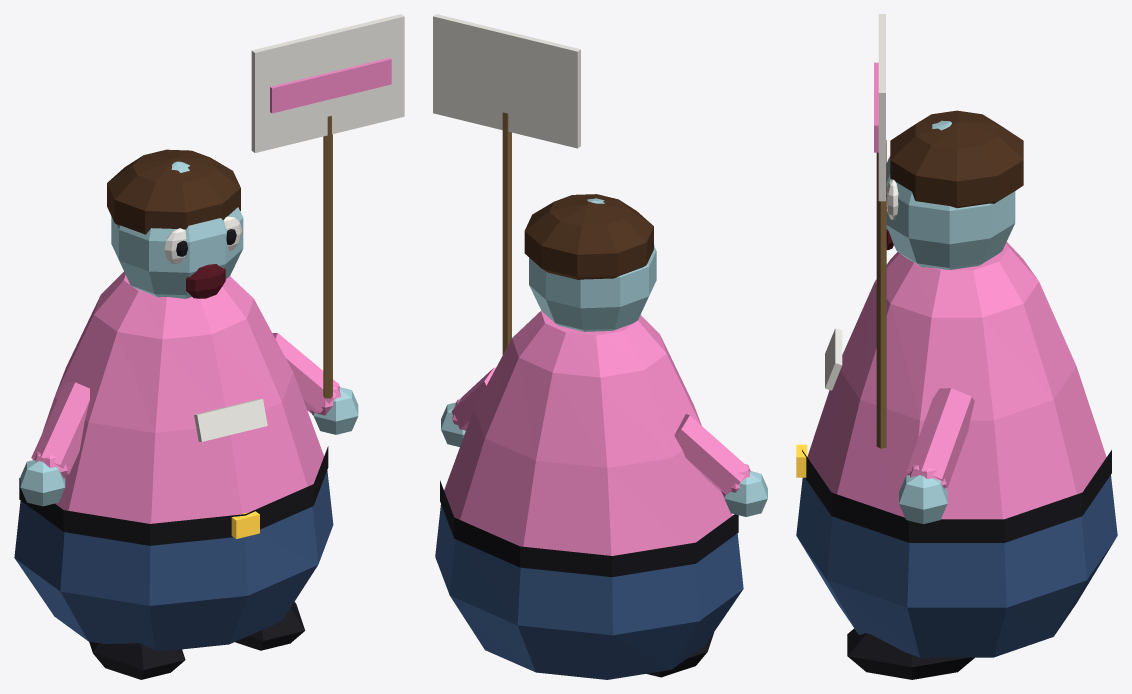
Rendered from npc_fan.glb.
The picture shows the model from 3 angles, left to right: view 1: azimuth 30°, elevation 25°; view 2: azimuth 150°, elevation 25°; view 3: azimuth 270°, elevation 25°; orthographic projection. The views are drawn at different scales.
Visible parts, largest first — view 1: body_fan_shirt, body_jeans, props_white, head_hair_brown, head_skin_celeste, body_black, arms_fan_shirt, legs_black, props_fan_shirt, arms_skin_celeste, props_sign_stick, body_white (+3 smaller); view 2: body_fan_shirt, body_jeans, props_white, head_hair_brown, body_black, head_skin_celeste, arms_fan_shirt, props_sign_stick, arms_skin_celeste, legs_black; view 3: body_fan_shirt, body_jeans, head_hair_brown, head_skin_celeste, body_black, arms_fan_shirt, legs_black, props_sign_stick, arms_skin_celeste, props_white, body_white.
Part boxes in pixels (x1,y1,x2,y2): body_fan_shirt: [42, 271, 323, 523]; body_jeans: [14, 470, 333, 651]; props_white: [251, 14, 404, 152]; head_hair_brown: [107, 149, 240, 234]; head_skin_celeste: [111, 161, 243, 298]; body_black: [19, 446, 328, 545]; arms_fan_shirt: [31, 333, 340, 478]; legs_black: [89, 602, 305, 679]; props_fan_shirt: [270, 58, 391, 113]; arms_skin_celeste: [20, 387, 358, 506]; props_sign_stick: [323, 115, 332, 398]; body_white: [194, 398, 267, 441]; body_fan_shirt: [444, 311, 732, 555]; body_jeans: [435, 504, 743, 679]; props_white: [433, 14, 580, 148]; head_hair_brown: [524, 194, 653, 279]; body_black: [440, 480, 738, 577]; head_skin_celeste: [529, 198, 656, 331]; arms_fan_shirt: [451, 367, 750, 496]; props_sign_stick: [502, 112, 511, 354]; arms_skin_celeste: [441, 402, 767, 516]; legs_black: [646, 632, 714, 677]; body_fan_shirt: [807, 242, 1106, 519]; body_jeans: [796, 475, 1117, 657]; head_hair_brown: [890, 110, 1023, 208]; head_skin_celeste: [886, 120, 1015, 269]; body_black: [802, 450, 1111, 542]; arms_fan_shirt: [906, 388, 974, 488]; legs_black: [847, 628, 974, 679]; props_sign_stick: [876, 140, 886, 448]; arms_skin_celeste: [899, 475, 947, 524]; props_white: [878, 14, 885, 201]; body_white: [825, 328, 842, 390].
Size of the model in its own units: 1.21 by 1.92 by 0.86.
